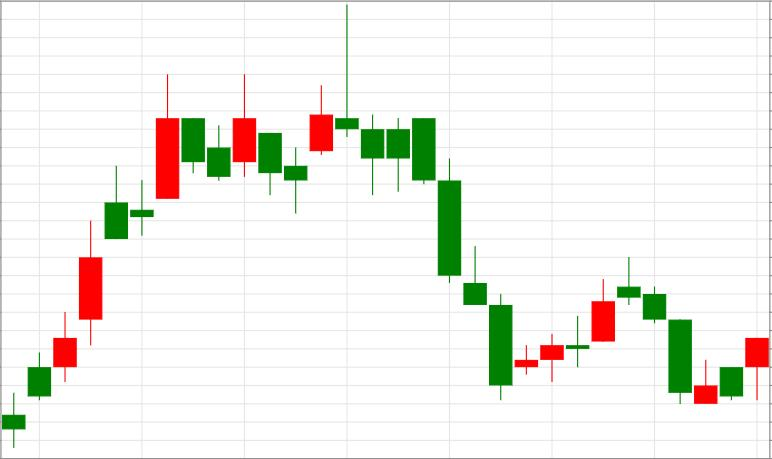evening_star_fall: (514, 257, 666, 384)
